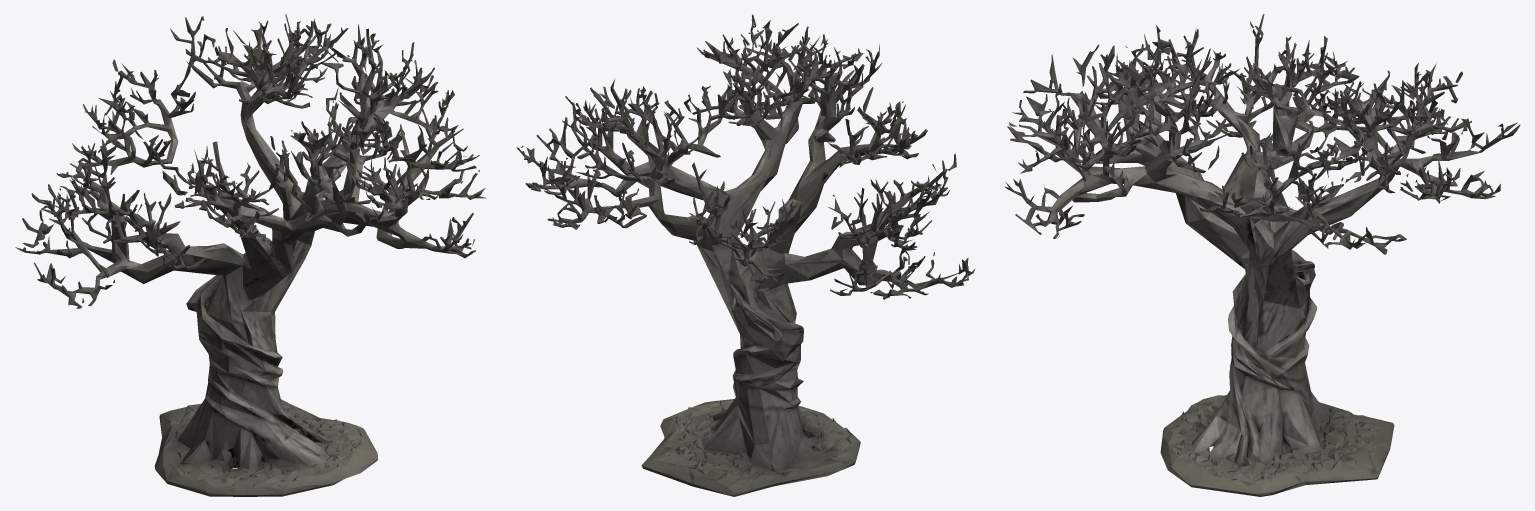
File: char_dead_tree_02.glb
3 views of the same model, side by side, from view 1: azimuth 30°, elevation 25°; view 2: azimuth 150°, elevation 25°; view 3: azimuth 270°, elevation 25° (orthographic). The views are drawn at different scales.
Parts seen in each view (by area): view 1: geometry_0; view 2: geometry_0; view 3: geometry_0.
Part boxes in pixels (box(x1,y1,x2,y2)): geometry_0: box(15, 14, 486, 496); geometry_0: box(516, 14, 975, 496); geometry_0: box(1005, 14, 1520, 496).
Bounding box in the file's own units: 0.9988 × 0.8546 × 0.9936.
Materials: 1 (1 with a texture image).
